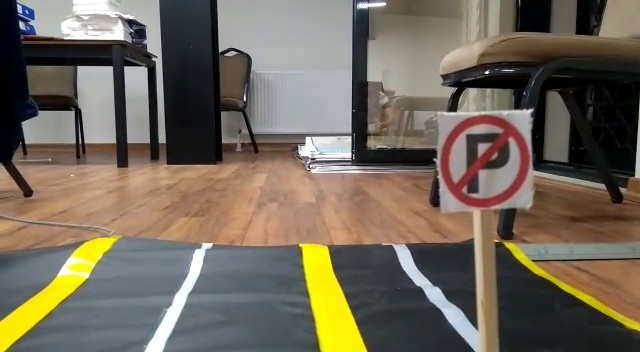park_yapilmaz: (437, 112, 537, 210)
